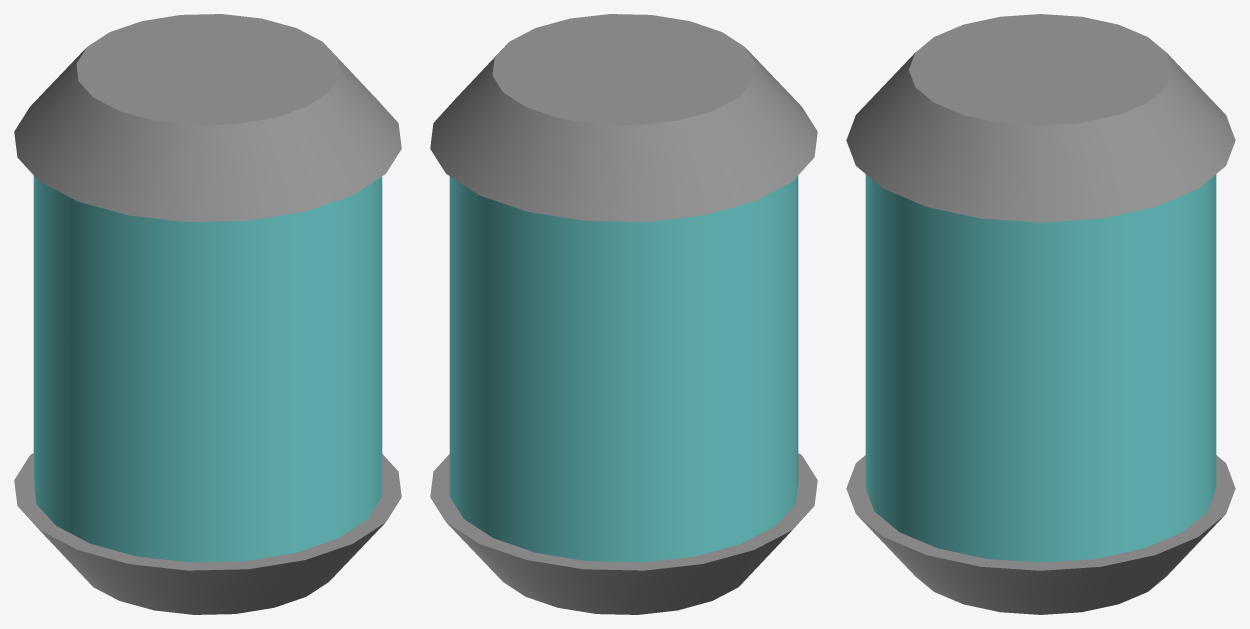
File: Capsule_Blue.fbx
3 views of the same model, side by side, from view 1: azimuth 30°, elevation 25°; view 2: azimuth 150°, elevation 25°; view 3: azimuth 270°, elevation 25° (orthographic).
Parts seen in each view (by area): view 1: pCylinder4; view 2: pCylinder4; view 3: pCylinder4.
Part boxes in pixels (left/top/right/bottom): pCylinder4: left=14, top=14, right=401, bottom=614; pCylinder4: left=430, top=14, right=817, bottom=614; pCylinder4: left=846, top=14, right=1235, bottom=614.
Size of the model in its own units: 2 by 2.77 by 2.
